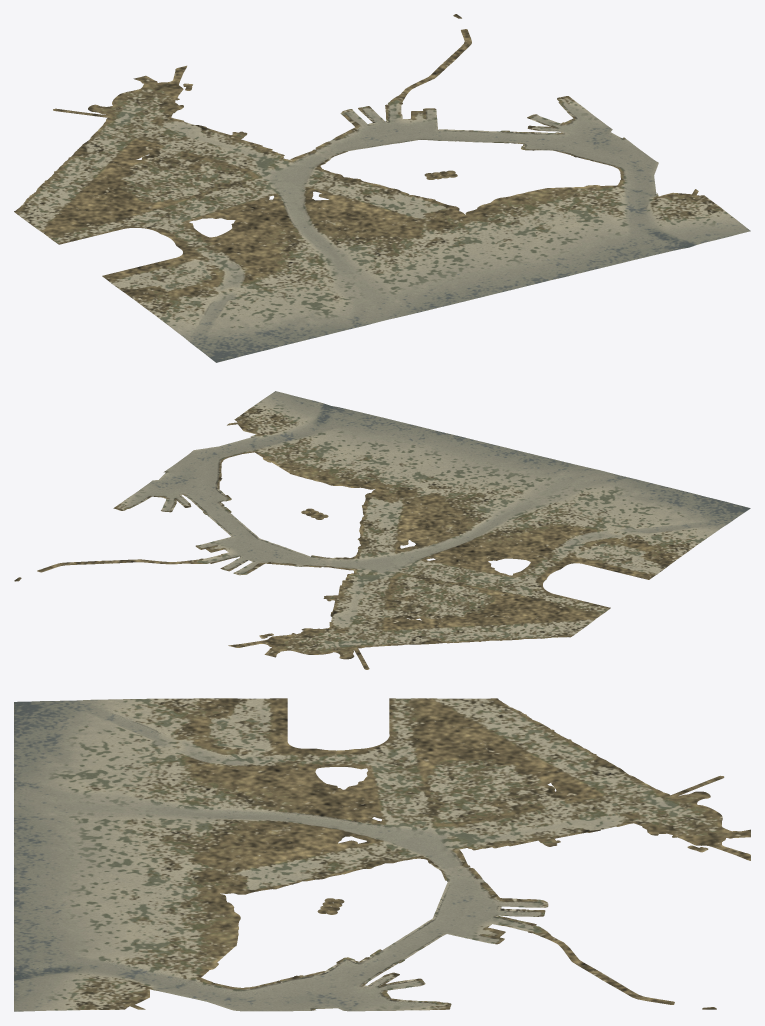
The model's file is seabed_collision.gltf.
The picture shows the model from 3 angles, top to bottom: view 1: azimuth 30°, elevation 25°; view 2: azimuth 150°, elevation 25°; view 3: azimuth 270°, elevation 25°; orthographic projection. The views are drawn at different scales.
Visible parts, largest first — view 1: seabed_world.001, seabed_middle.001, seabed_venue.001; view 2: seabed_world.001, seabed_middle.001, seabed_venue.001; view 3: seabed_world.001, seabed_middle.001, seabed_venue.001.
Boxes of the visible parts, x1=… form: seabed_world.001: x1=14, y1=14, x2=750, y2=362; seabed_middle.001: x1=127, y1=101, x2=531, y2=266; seabed_venue.001: x1=262, y1=156, x2=396, y2=209; seabed_world.001: x1=14, y1=391, x2=750, y2=669; seabed_middle.001: x1=202, y1=472, x2=555, y2=623; seabed_venue.001: x1=328, y1=522, x2=435, y2=573; seabed_world.001: x1=14, y1=698, x2=750, y2=1011; seabed_middle.001: x1=205, y1=779, x2=559, y2=930; seabed_venue.001: x1=323, y1=829, x2=441, y2=878.
Size of the model in its own units: 5000 by 28.69 by 5000.
Materials: 1 (1 with a texture image).
